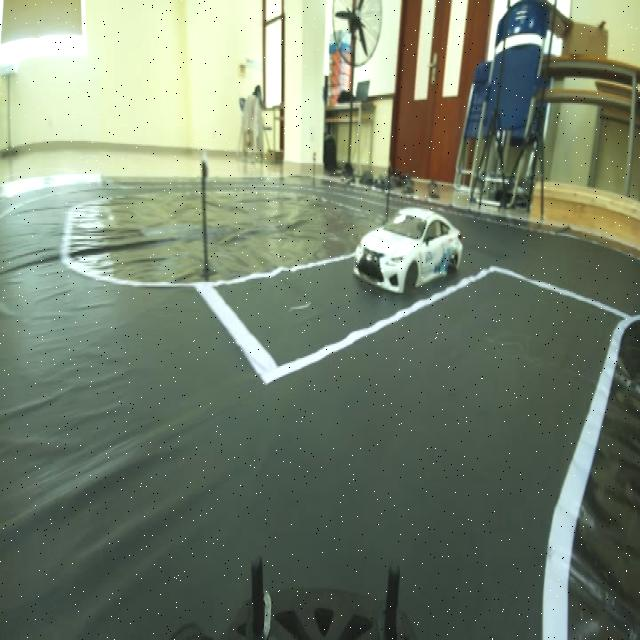car: (348, 188, 464, 302)
